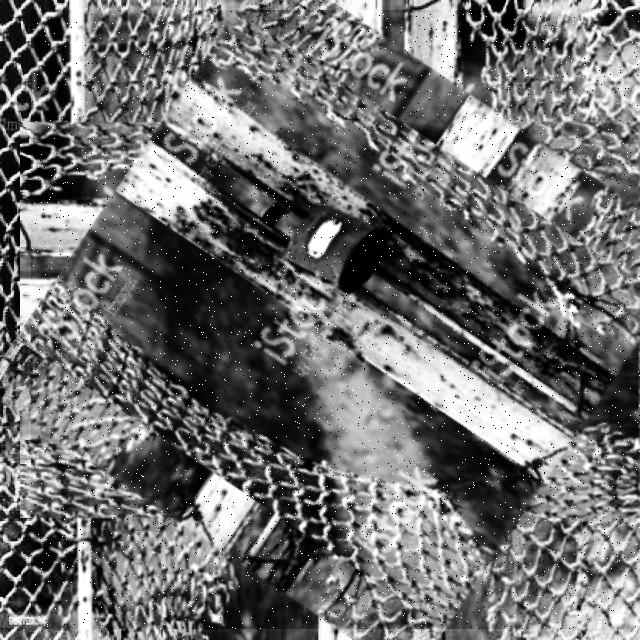anomaly-fence: (31, 10, 640, 629)
